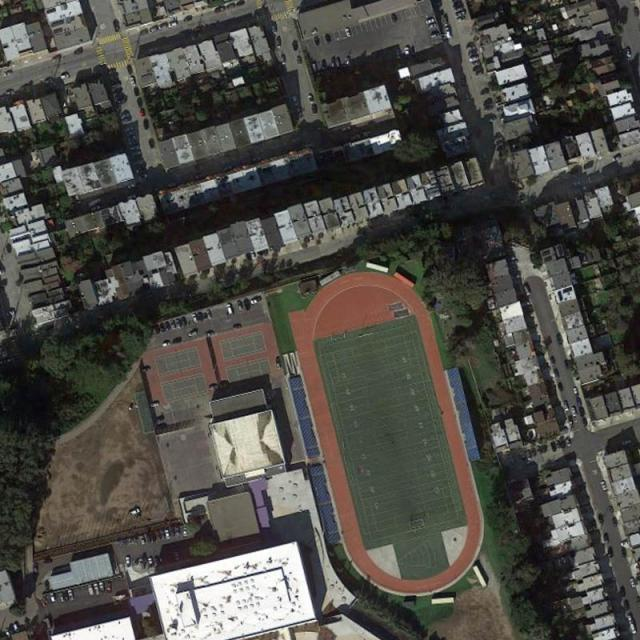vehicle: (88, 198, 102, 207), (158, 322, 166, 333), (523, 286, 531, 297), (571, 406, 578, 418), (143, 118, 150, 130), (126, 64, 134, 74), (215, 5, 225, 13), (87, 585, 94, 596), (133, 86, 140, 97), (311, 104, 318, 115), (626, 611, 633, 622), (106, 582, 112, 594), (323, 33, 331, 42), (626, 46, 632, 58), (630, 622, 636, 634), (620, 586, 626, 598), (226, 305, 233, 315), (550, 442, 557, 452), (479, 88, 489, 95), (484, 104, 494, 111), (3, 70, 13, 77), (292, 95, 299, 105), (345, 28, 352, 38), (237, 302, 243, 313), (4, 89, 15, 95), (350, 135, 361, 141), (624, 599, 630, 610), (68, 589, 74, 600), (602, 533, 609, 542), (579, 407, 586, 416), (456, 10, 465, 17), (442, 17, 449, 26), (136, 98, 143, 107), (74, 47, 83, 54), (183, 15, 192, 22), (307, 94, 314, 103), (344, 57, 351, 66), (62, 591, 69, 600), (206, 311, 212, 321), (164, 529, 170, 539), (606, 548, 612, 558), (563, 401, 569, 411), (576, 397, 582, 407), (140, 108, 146, 118), (125, 130, 135, 136), (168, 22, 178, 28), (292, 40, 298, 50), (296, 56, 302, 66), (341, 125, 351, 131), (175, 320, 182, 328), (390, 14, 397, 22), (122, 112, 130, 119), (159, 22, 166, 30), (182, 527, 187, 538), (557, 334, 562, 345), (405, 46, 410, 57), (149, 138, 154, 149), (276, 38, 281, 49), (281, 54, 286, 65), (634, 6, 639, 17), (59, 591, 64, 602), (233, 324, 242, 330), (170, 320, 176, 329), (131, 508, 140, 514), (98, 582, 104, 591), (598, 514, 604, 523), (469, 56, 478, 62), (128, 194, 137, 200), (130, 77, 136, 86), (61, 73, 70, 79), (314, 37, 320, 46), (613, 154, 622, 160), (623, 439, 632, 445), (601, 481, 606, 491), (630, 578, 635, 588), (526, 450, 531, 460), (554, 368, 559, 378), (321, 60, 326, 70), (312, 64, 317, 74), (50, 592, 55, 602), (13, 622, 18, 632), (477, 70, 484, 77), (227, 2, 234, 9), (192, 314, 198, 322), (154, 326, 160, 334), (144, 534, 150, 542), (174, 552, 180, 560), (94, 583, 98, 595), (426, 18, 434, 24), (474, 66, 482, 72), (150, 26, 158, 32), (431, 32, 439, 38), (181, 317, 186, 326), (175, 527, 180, 536), (148, 557, 153, 566), (558, 382, 563, 391), (466, 45, 475, 50), (91, 206, 100, 211), (125, 126, 134, 131), (330, 58, 335, 67), (613, 516, 617, 527), (250, 299, 258, 304), (205, 332, 213, 337), (165, 322, 170, 330), (126, 556, 130, 566), (446, 28, 450, 38), (133, 160, 143, 164), (335, 58, 340, 66), (473, 61, 480, 66), (162, 342, 170, 346), (188, 332, 196, 336), (566, 439, 570, 447), (138, 174, 146, 178), (128, 183, 134, 188), (574, 388, 578, 394)
